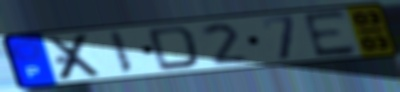2: (199, 22, 252, 67)
7: (259, 13, 298, 62)
D: (146, 24, 202, 72)
E: (300, 8, 360, 60)
I: (106, 29, 136, 76)
X: (46, 32, 106, 83)
